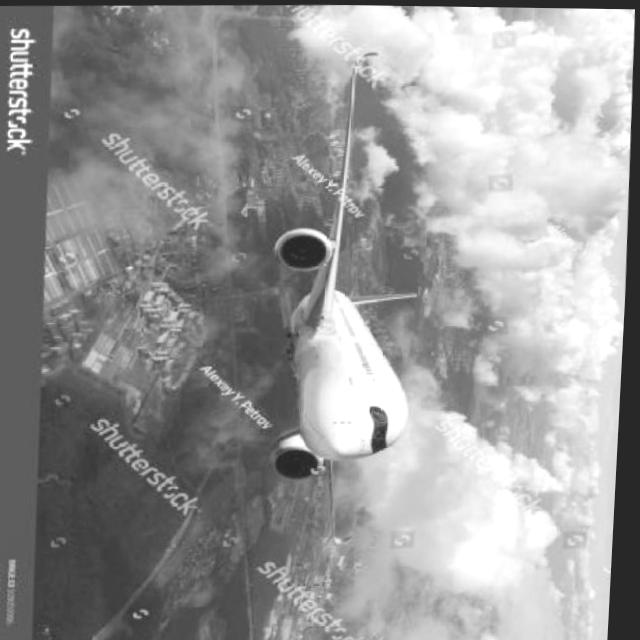aeroplane: (239, 36, 445, 553)
